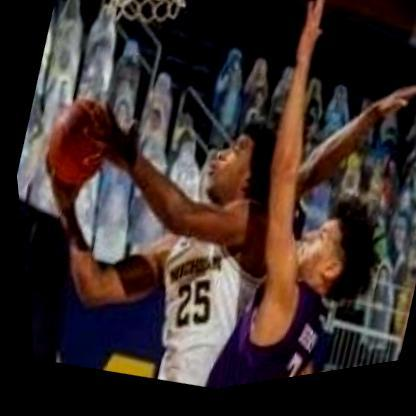basketball: (30, 87, 121, 198)
